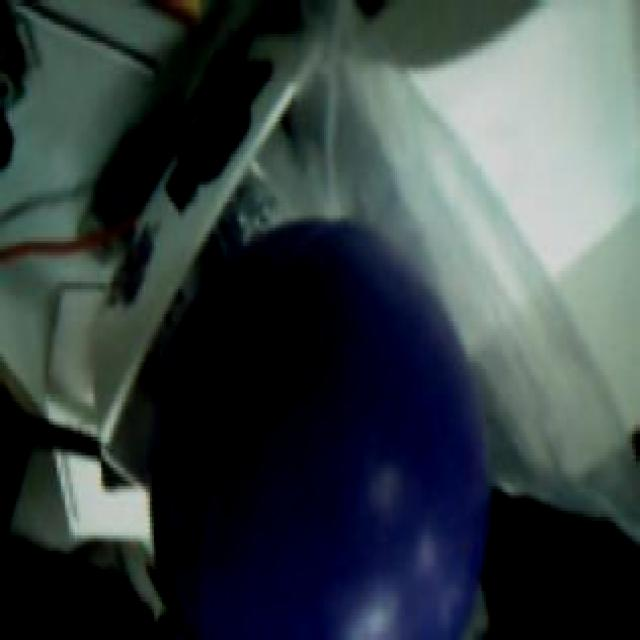BallPurple: (152, 215, 488, 640)
